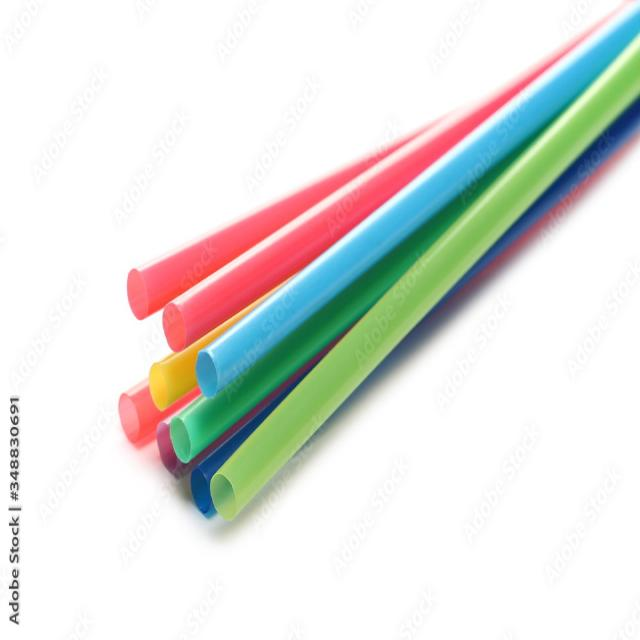plastic: (208, 186, 622, 561)
